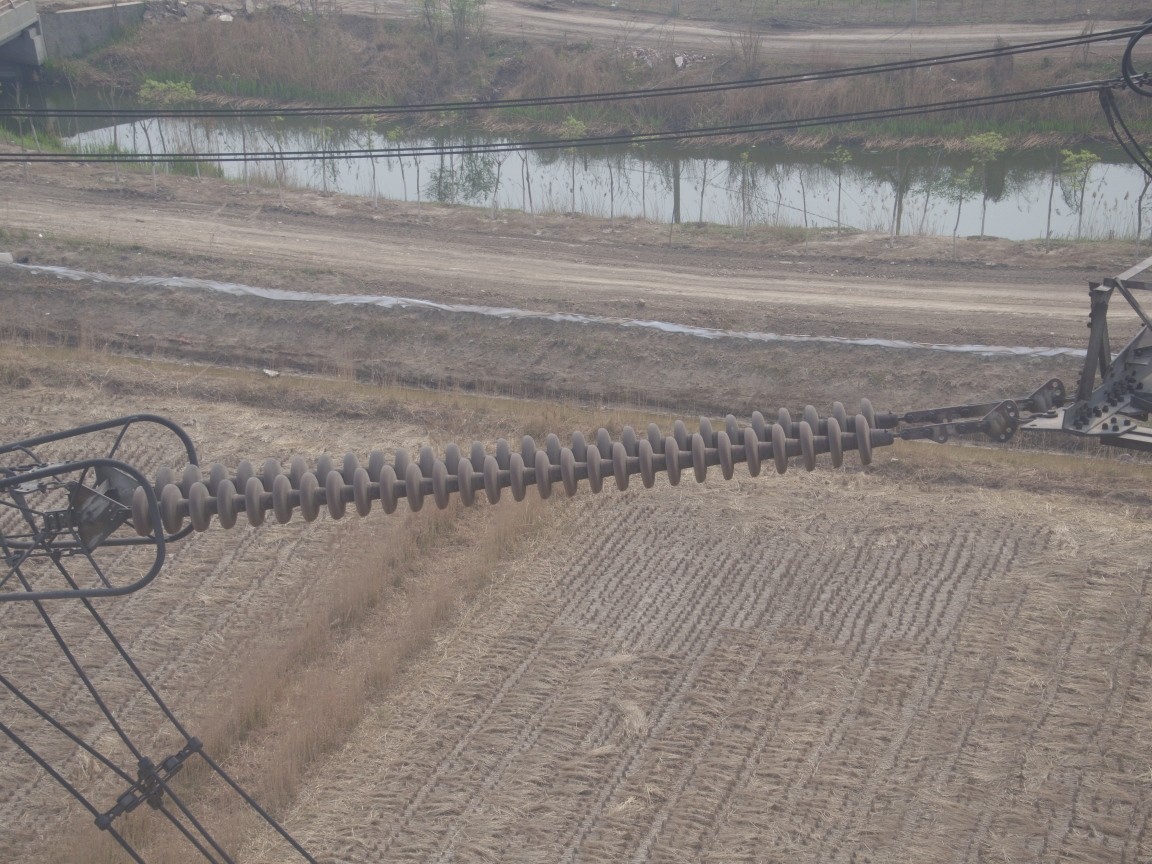insulator: (115, 395, 916, 538)
